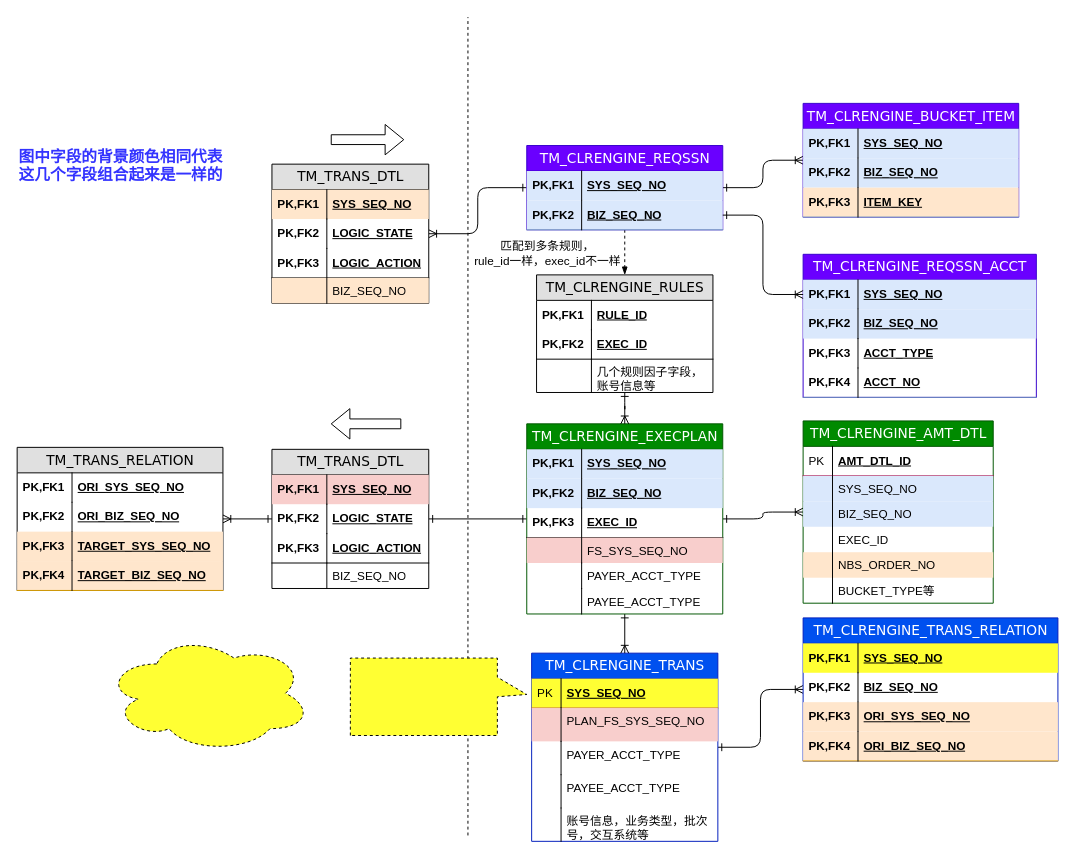
This 1075x861 diagram has some shape labels left out. Here are the shapes that lost their labels. From the top down, the centre of each, then its label:
At pixel 207 693: "业务系统应该记录每条dtl对应的reqssn的流水号，方便后续查看".
At pixel 438 696: "当一条execlan对应一条trans的时候，sys_seq_no等于plan_fs_sys_seq_no".
